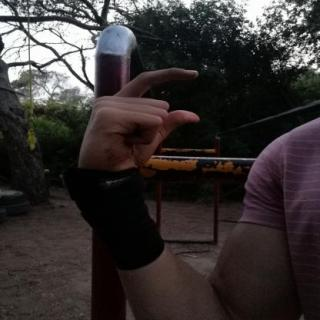DELL: (64, 60, 213, 185)
